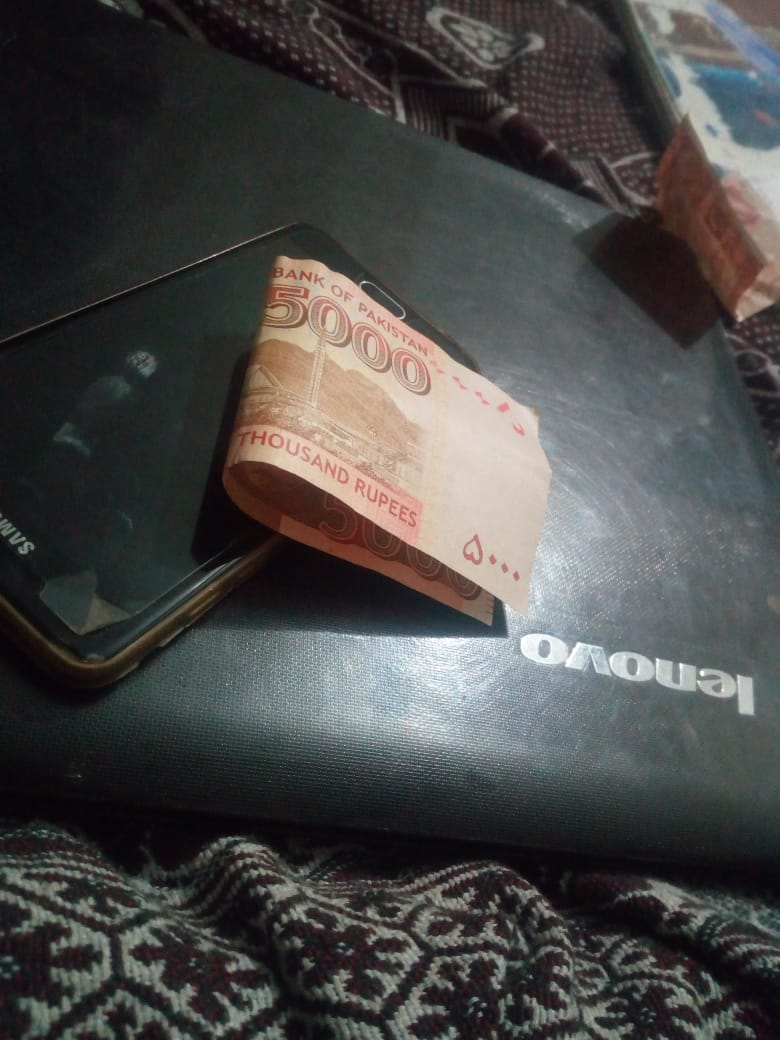5000 rupee: (215, 228, 594, 615)
